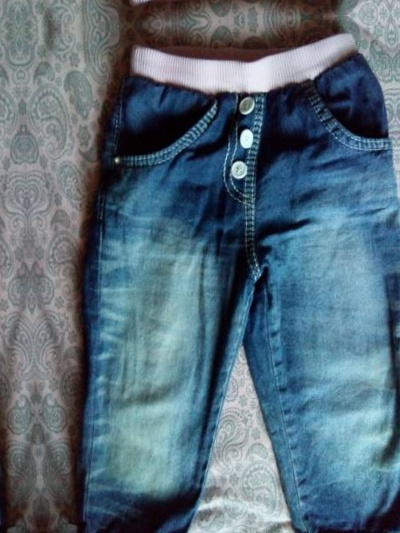Pants: (45, 23, 400, 533), (0, 42, 16, 533), (21, 0, 389, 19), (393, 7, 400, 522), (368, 0, 400, 3)
